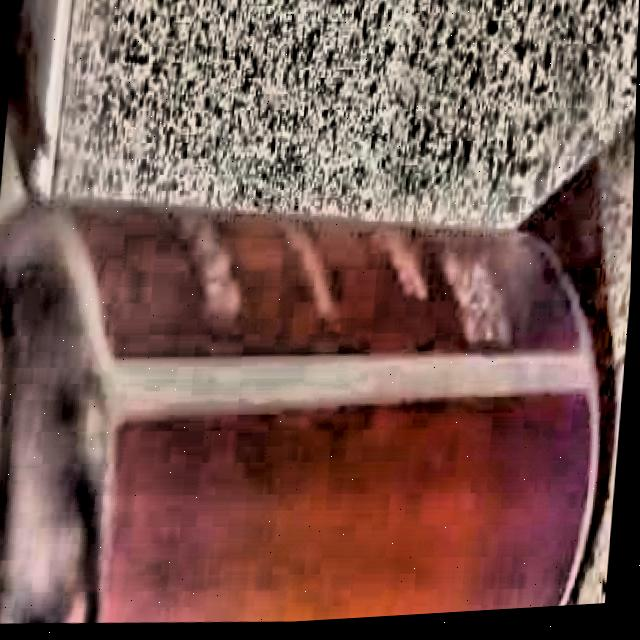metal: (0, 145, 636, 640)
